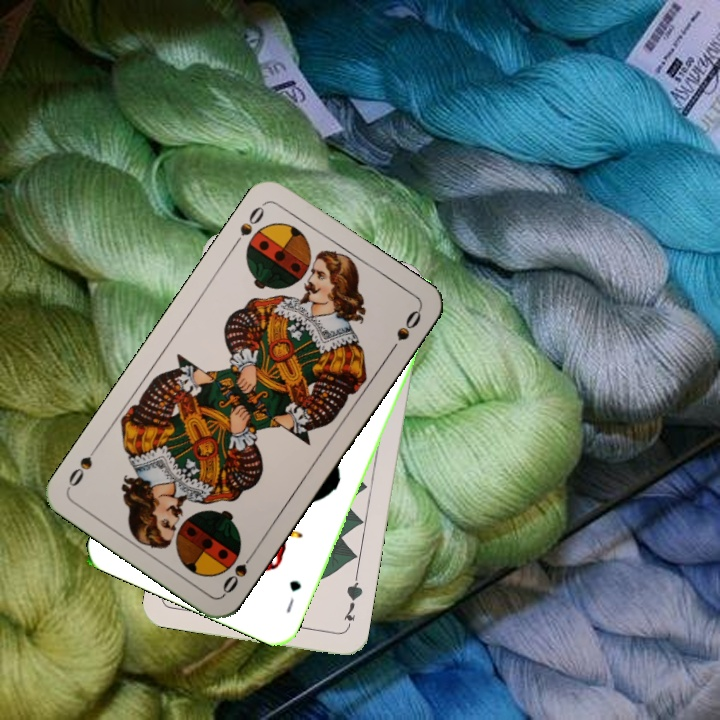G7: (339, 573, 366, 632)
GU: (282, 576, 304, 616)
SO: (218, 546, 259, 597), (228, 199, 268, 251)
